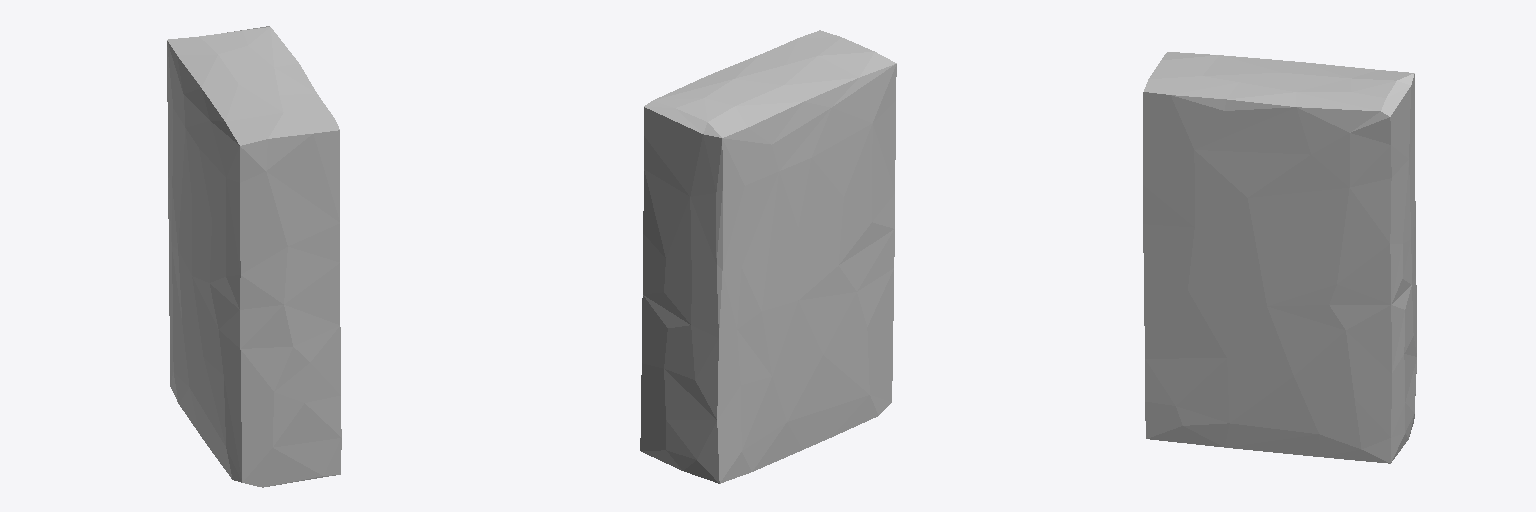
The model's file is PotatoeStarch_250_collision.obj.
The picture shows the model from 3 angles: view 1: azimuth 30°, elevation 25°; view 2: azimuth 150°, elevation 25°; view 3: azimuth 270°, elevation 25°; orthographic projection.
Size of the model in its own units: 0.0732 by 0.1713 by 0.1201.